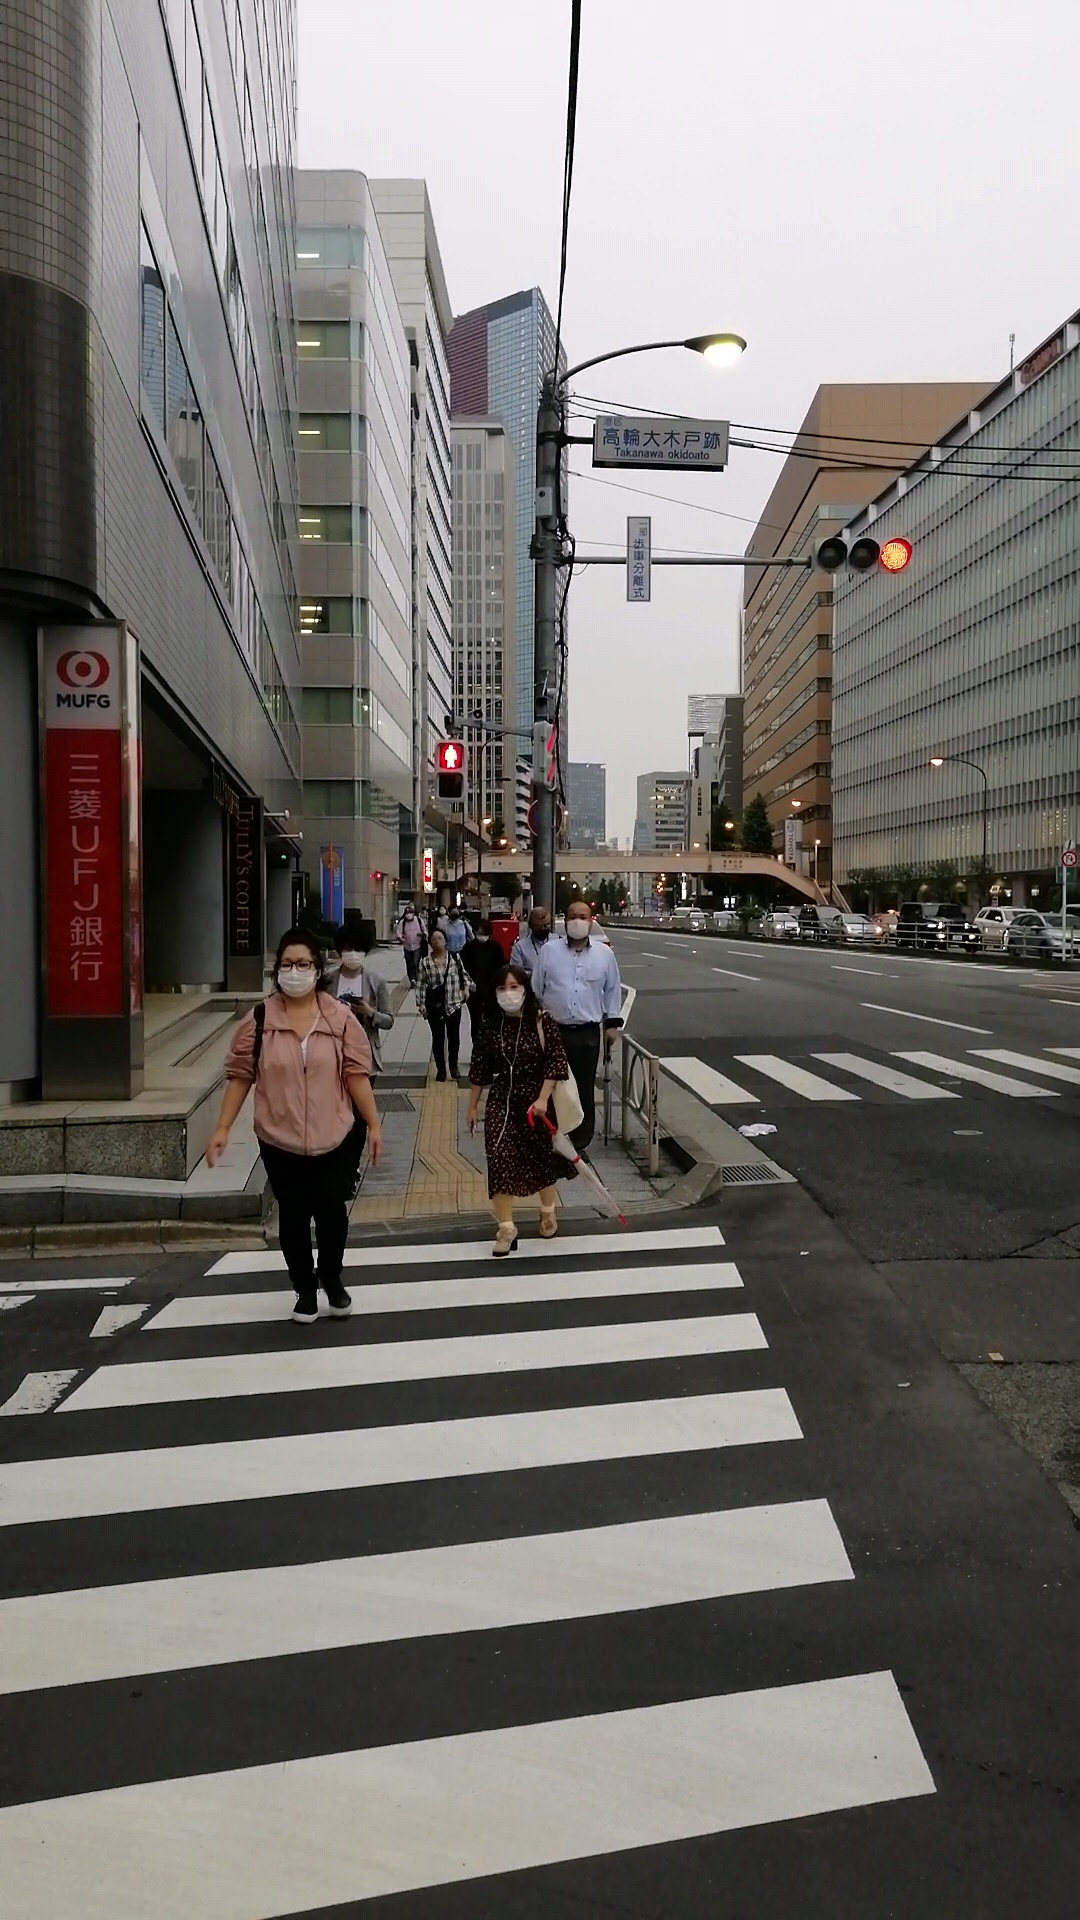red: (436, 740, 465, 800)
